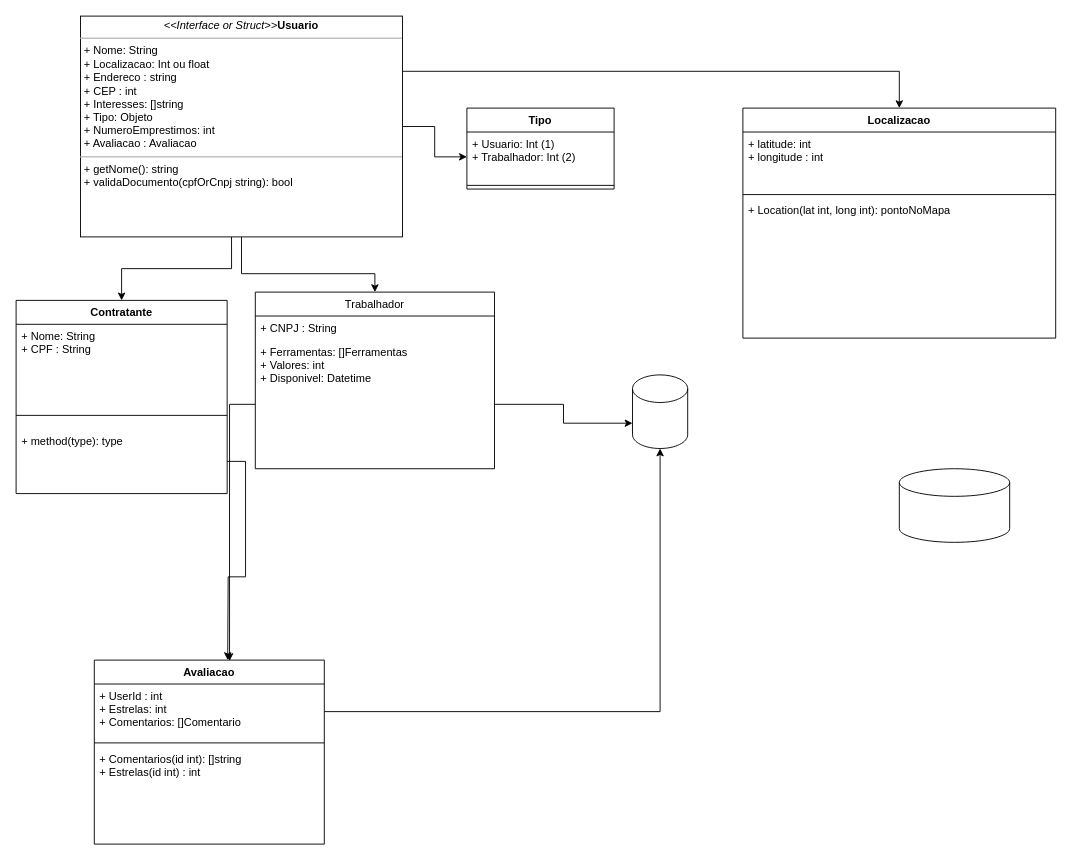
This 1072x863 diagram has some shape labels left out. Here are the shapes that lost their labels. From the top down, the centre of each, then its label:
(660,411): DB
(954,505): PAGAMENTOS
